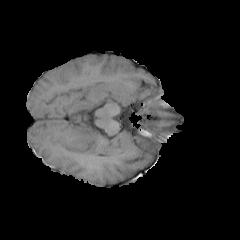glioma: (64, 129, 131, 158)
